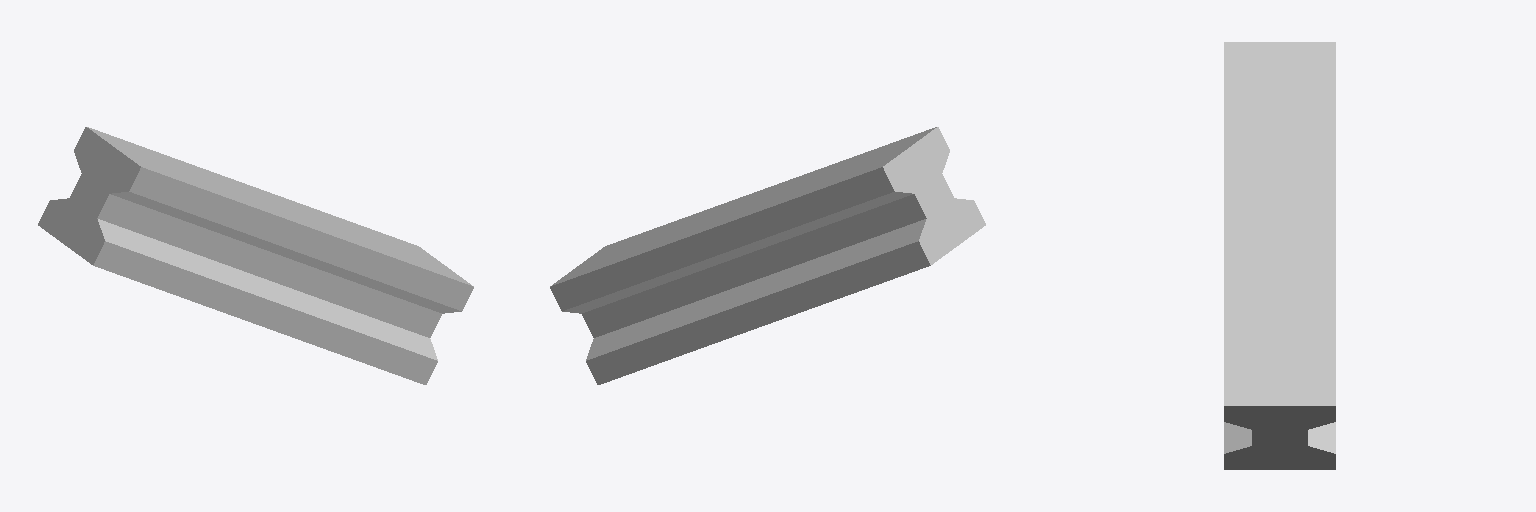
File: 30DegPlatform.obj
3 views of the same model, side by side, from view 1: azimuth 30°, elevation 25°; view 2: azimuth 150°, elevation 25°; view 3: azimuth 270°, elevation 25° (orthographic).
Size of the model in its own units: 7.93 by 5.73 by 2.